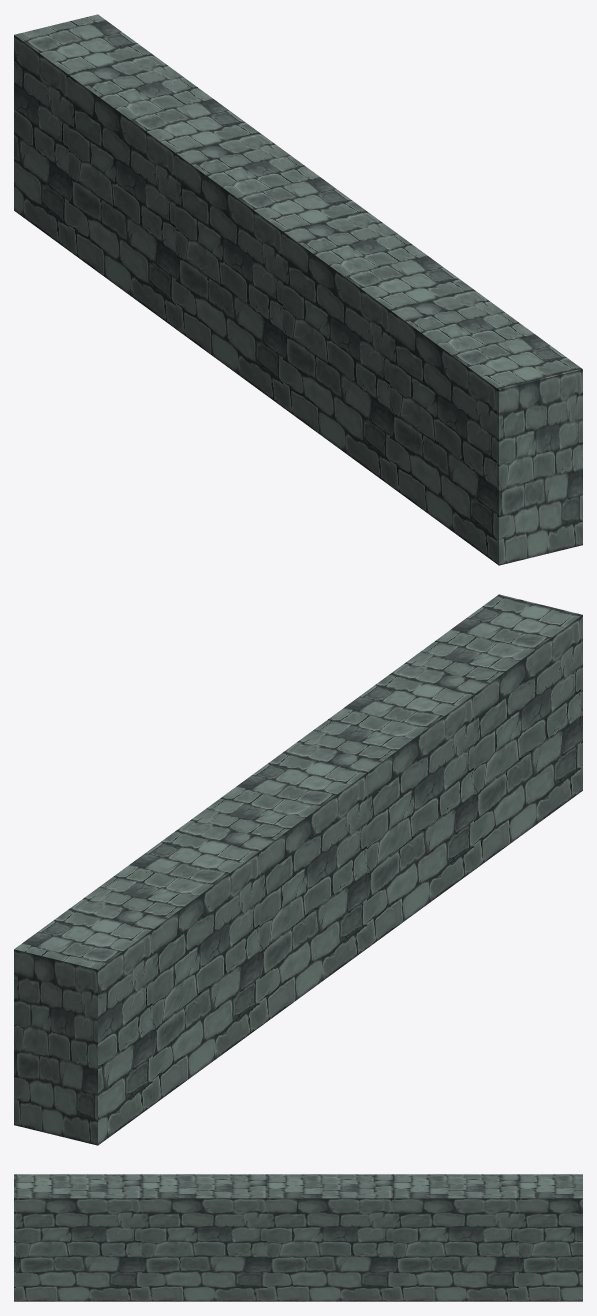
File: Wall.FBX
The picture shows the model from 3 angles, top to bottom: view 1: azimuth 30°, elevation 25°; view 2: azimuth 150°, elevation 25°; view 3: azimuth 270°, elevation 25°; orthographic projection. The views are drawn at different scales.
Visible parts, largest first — view 1: Box001; view 2: Box001; view 3: Box001.
Boxes of the visible parts, x1,y1,x2,y2 form: Box001: (14, 14, 582, 565); Box001: (14, 594, 582, 1145); Box001: (14, 1174, 582, 1301).
Bounding box in the file's own units: 9.84 × 19.69 × 98.43.
